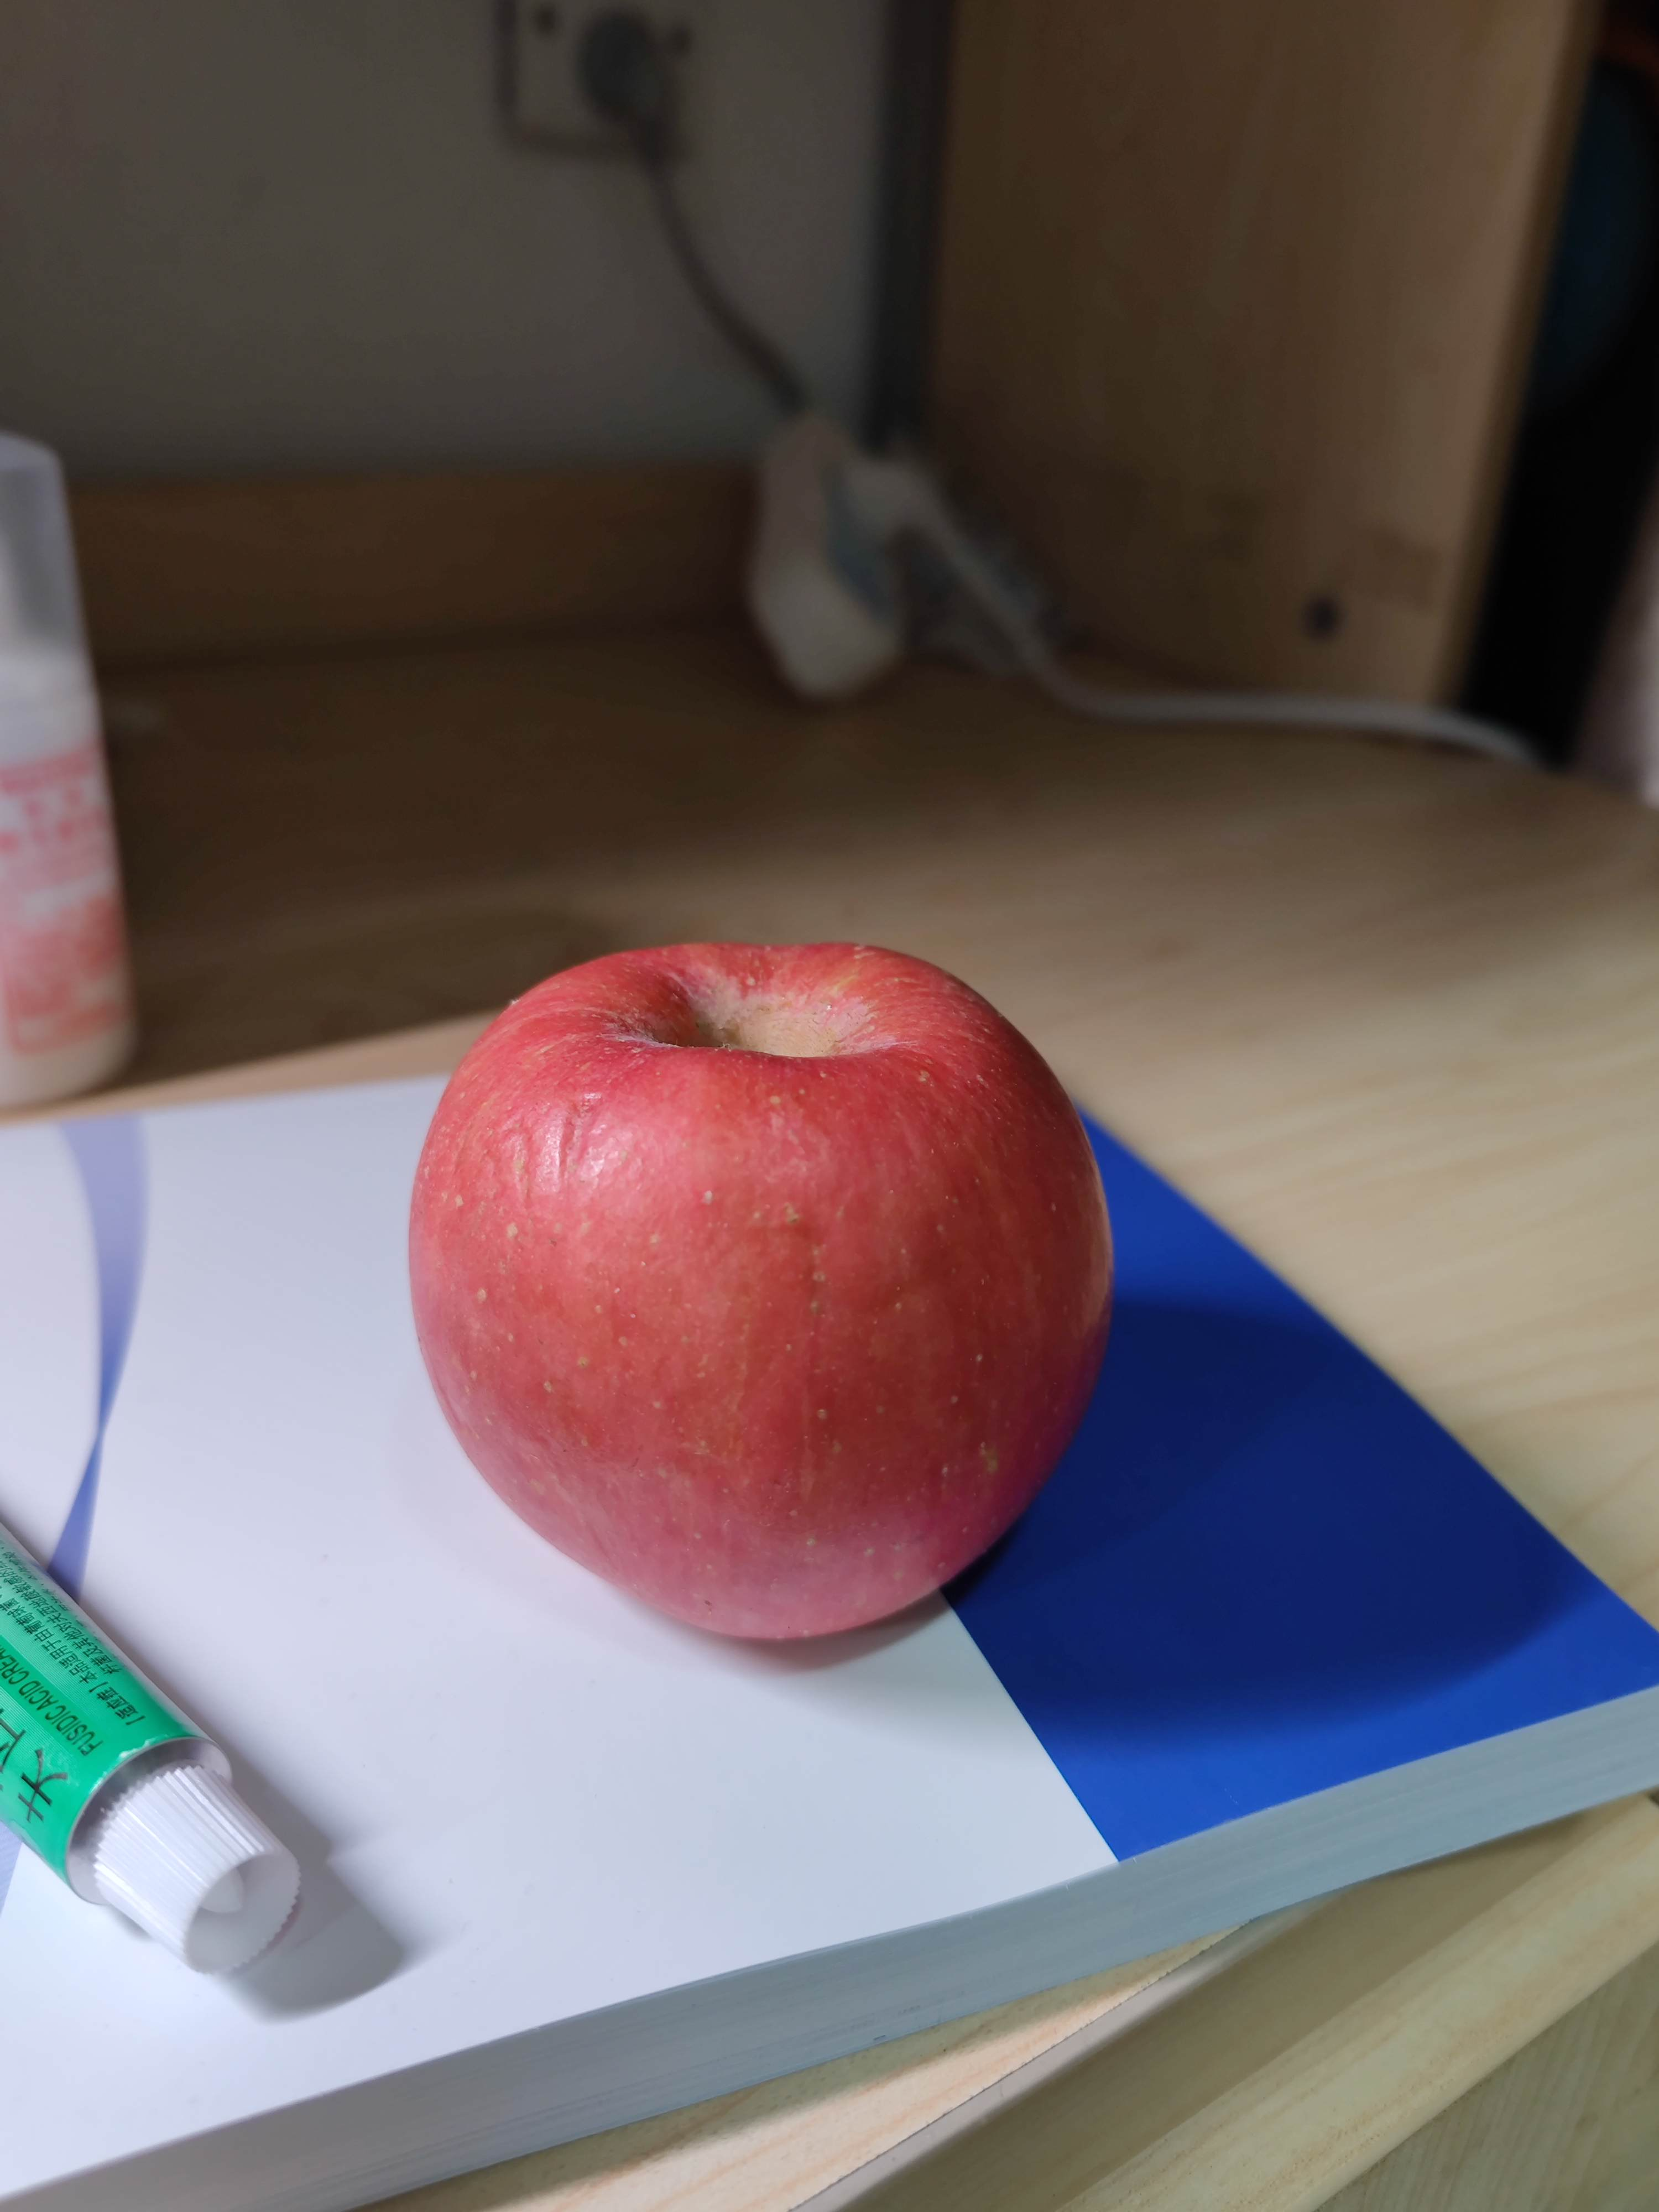apple: (410, 930, 1126, 1670)
